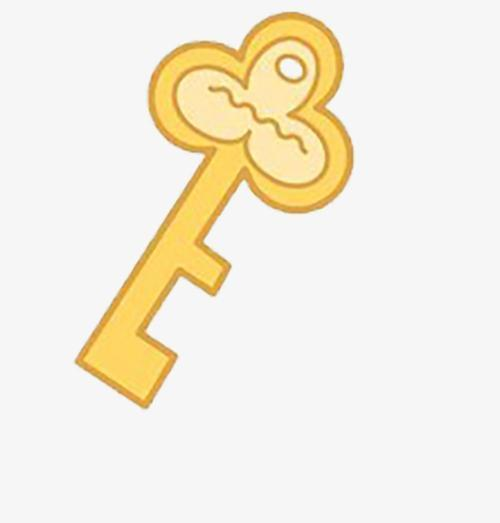key: (49, 5, 374, 431)
